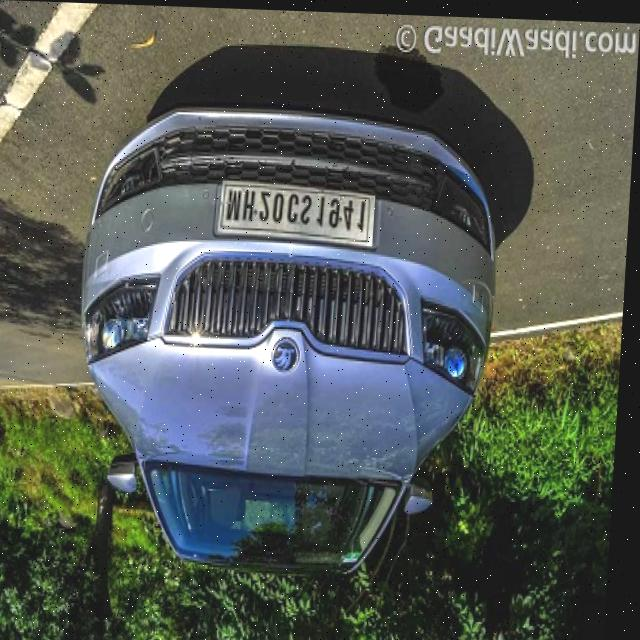plate: (219, 180, 382, 245)
